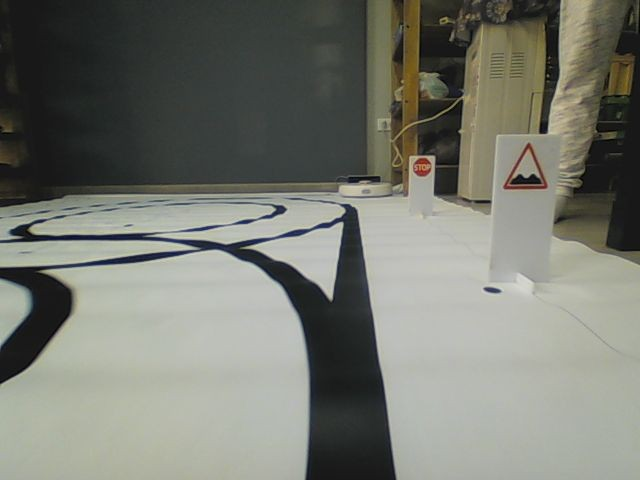Stop: (413, 157, 431, 177)
